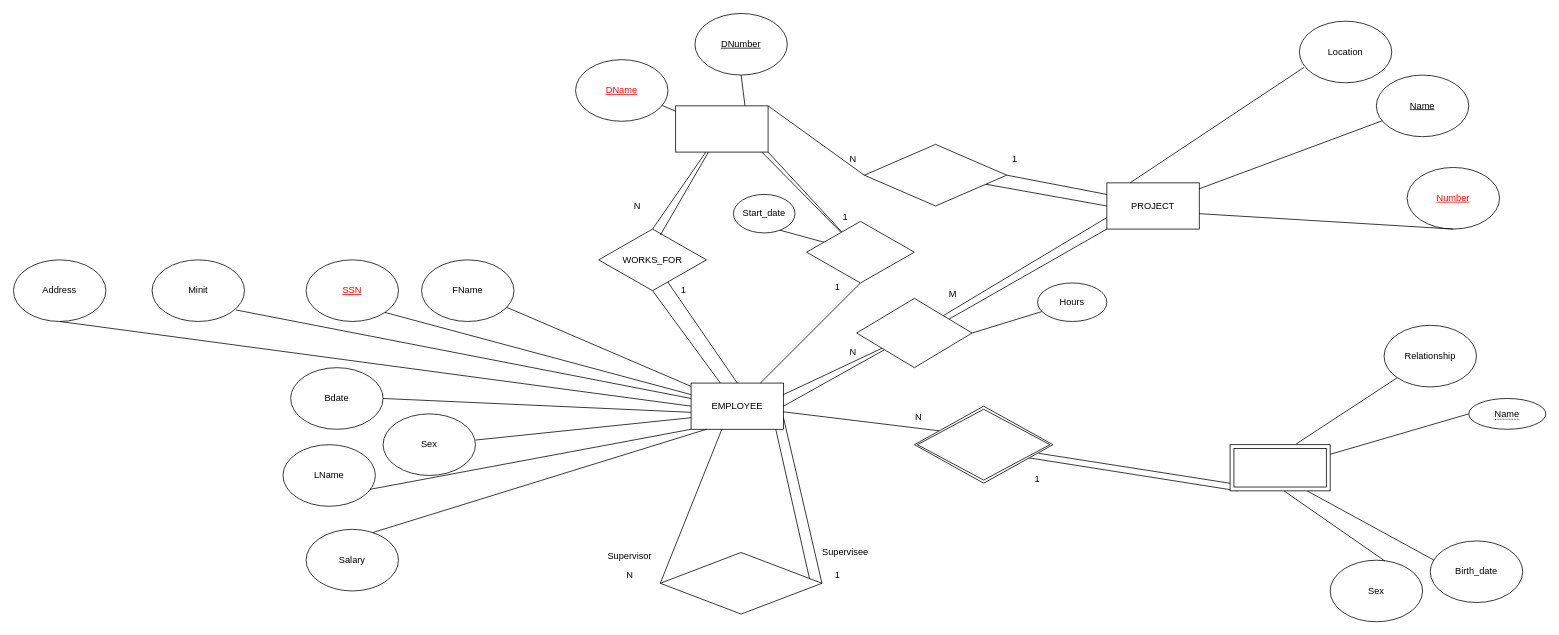
Some shapes in this 1559 by 635 pixel diagram are drawn without their labels. Here are the shapes that lost their labels. From the top down, the centre of each, then its label:
the point at 721,128: DEPARTMENT
the point at 935,175: CONTROLS
the point at 860,252: MANAGES
the point at 914,333: WORKS_ON
the point at 983,444: DEPENDES_OF
the point at 1279,467: DEPENDENT
the point at 741,583: Supervising
